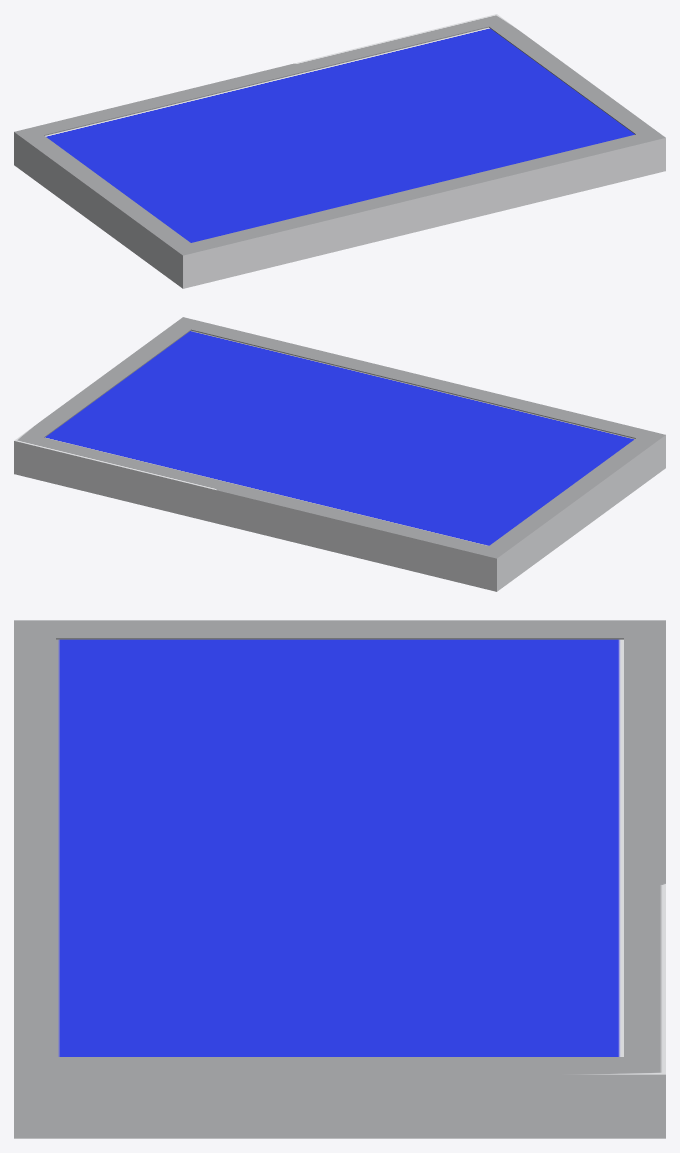
The model's file is score.dae.
3 renders of one model, top to bottom at view 1: azimuth 30°, elevation 25°; view 2: azimuth 150°, elevation 25°; view 3: azimuth 270°, elevation 25°, orthographic. The views are drawn at different scales.
Visible parts, largest first — view 1: Cube.001; view 2: Cube.001; view 3: Cube.001.
Part boxes in pixels (<box>): Cube.001: <box>14,14,665,288</box>; Cube.001: <box>14,317,665,591</box>; Cube.001: <box>14,620,665,1138</box>.
Bounding box in the file's own units: 0.776 × 0.4707 × 0.0511.
1 material, 1 textured.
